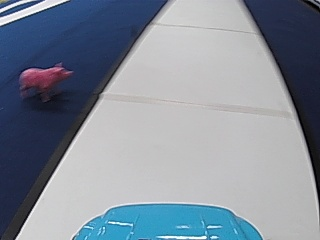pig: (19, 59, 73, 103)
